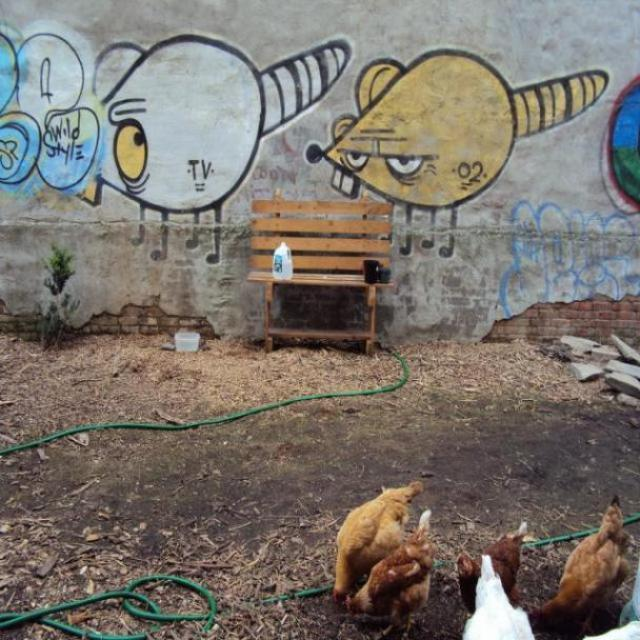Chicken: (536, 494, 635, 631), (343, 508, 442, 639), (332, 480, 427, 602), (451, 514, 527, 617), (460, 550, 537, 640)
